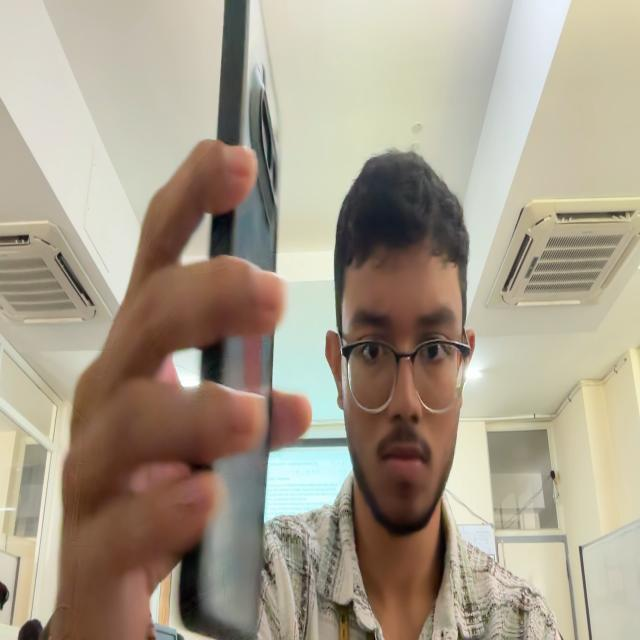Useful: (209, 0, 280, 271), (179, 438, 269, 639), (201, 330, 273, 417)
